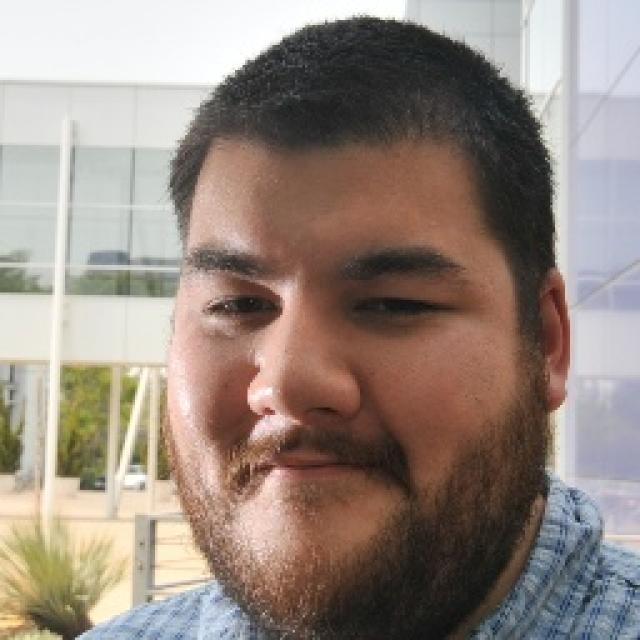earlobe: (537, 360, 570, 414)
eye: (350, 288, 442, 323), (202, 294, 281, 320)
nose: (232, 392, 364, 453)
wholeear: (534, 265, 572, 414)
